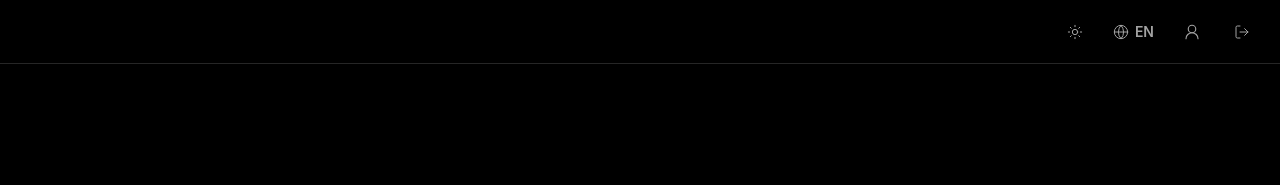
Test: HeaderToolbar › opens the account menu with name and email and closes it on Escape
The image size is (1280, 185).
Click the button named "Konto".
click(1192, 32)  # box x1=1170 y1=10 x2=1214 y2=54
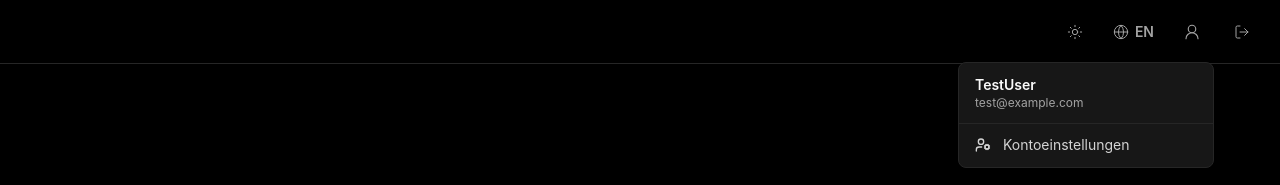
Now the text "TestUser" is shown, box x1=975 y1=76 x2=1036 y2=92
Now the text "test@example.com" is shown, box x1=975 y1=94 x2=1084 y2=110
Press Escape
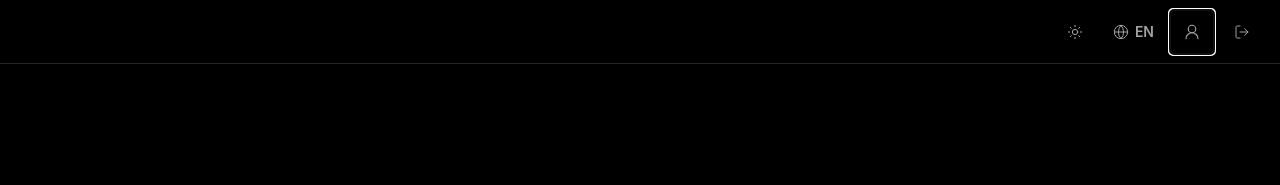
Now the text "test@example.com" is gone
